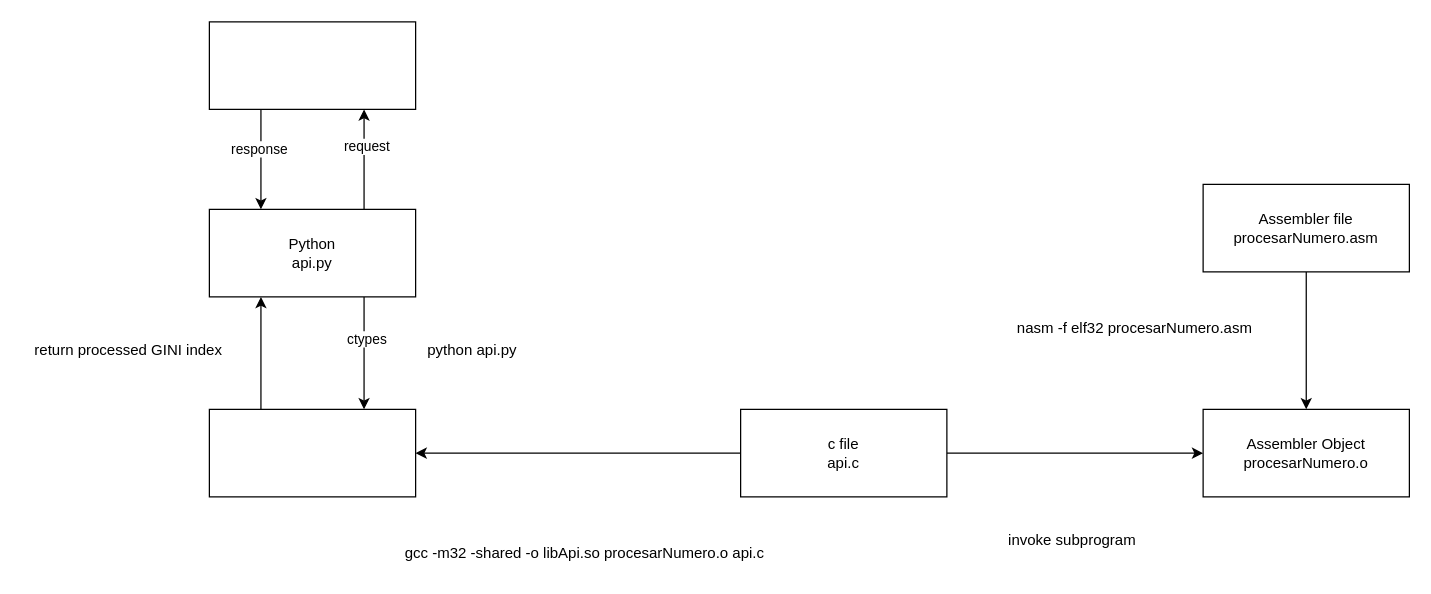
Image size: 1431x594. Some labels were removed from this diagram. The centre of each missing label's shape, as x and y in pixels:
"API REST GINI index" goes at (x=312, y=65).
"c shared object libApi.so" goes at (x=312, y=452).
